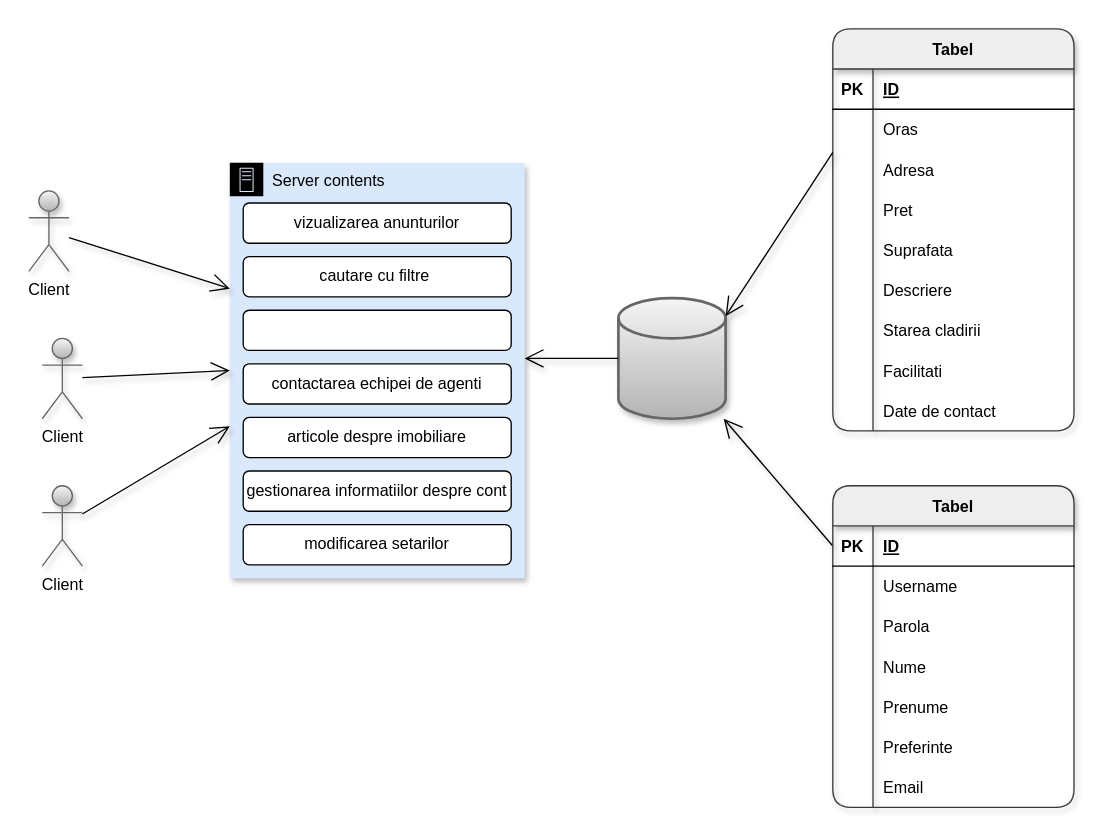
This 1106x840 diagram has some shape labels left out. Here are the shapes that lost their labels. From the top down, the centre of each, then its label:
At point 376,329: "lista cu anunturile favorite".
At point 672,360: "Baza de date".
